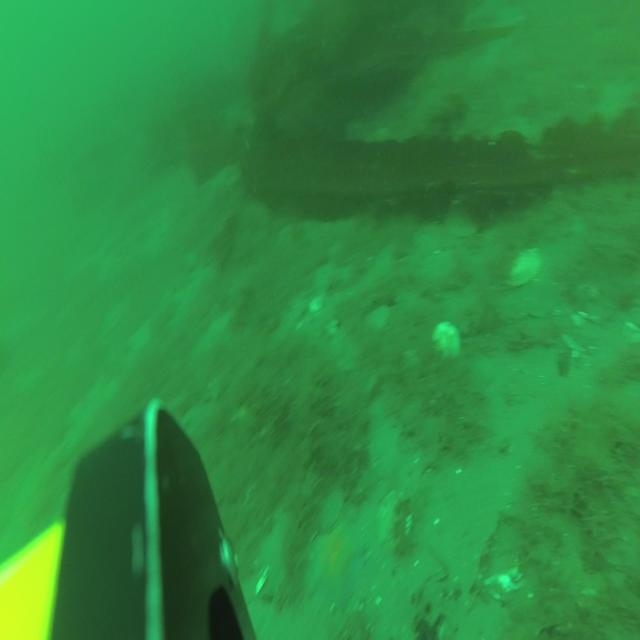scallop: (504, 248, 542, 285), (430, 320, 461, 357), (445, 210, 477, 236)
starfish: (307, 530, 372, 603)
